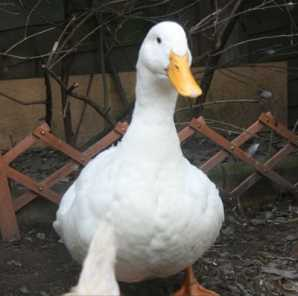Mencari Makan di Lumpur: (162, 51, 205, 102)
